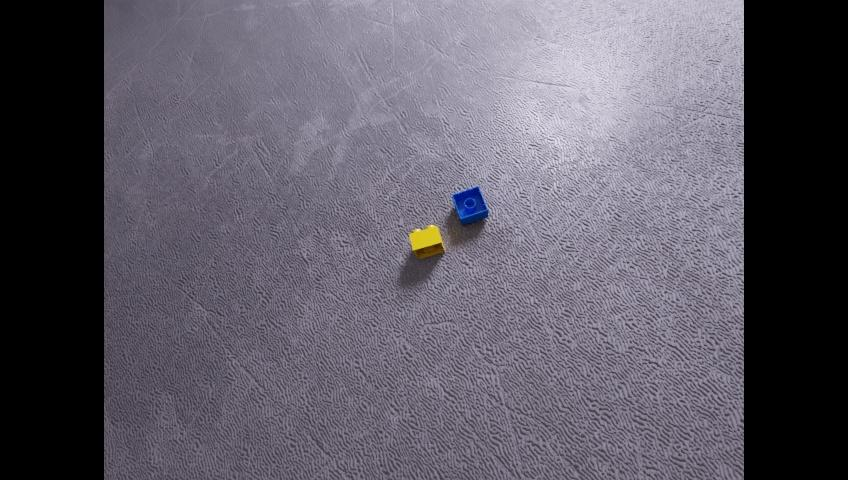2x2_blue: (453, 185, 487, 225)
2x2_yellow: (409, 225, 444, 258)
